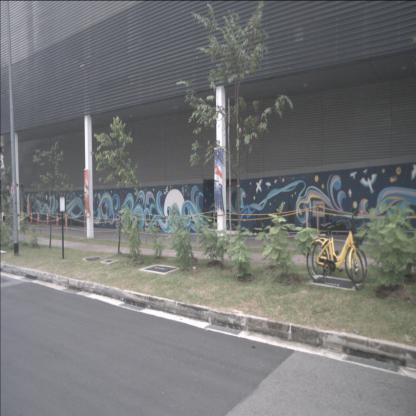cone: (63, 212, 69, 228), (45, 211, 50, 226), (55, 212, 60, 227), (35, 212, 40, 225), (21, 211, 25, 225), (30, 212, 34, 224)
